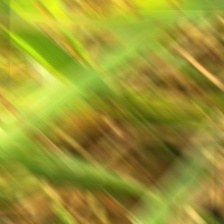Bacterial_Leaf_Blight: (18, 123, 36, 136), (127, 4, 142, 15), (167, 2, 180, 10), (164, 197, 173, 208), (90, 62, 103, 69)
